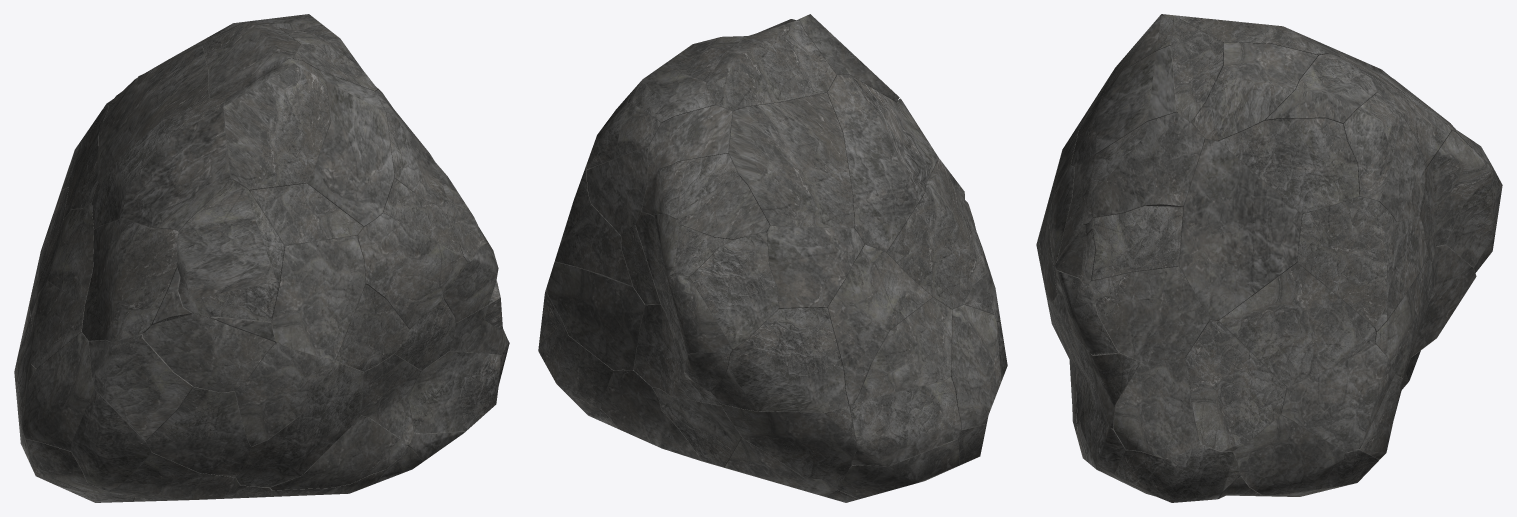
The model's file is Rock2Fractured.fbx.
3 renders of one model, left to right at view 1: azimuth 30°, elevation 25°; view 2: azimuth 150°, elevation 25°; view 3: azimuth 270°, elevation 25°, orthographic. The views are drawn at different scales.
Parts seen in each view (by area): view 1: Rock2_cell.080, Rock2_cell.032, Rock2_cell.072, Rock2_cell.086, Rock2_cell.034, Rock2_cell.008, Rock2_cell.028, Rock2_cell.038, Rock2_cell.082, Rock2_cell.009, Rock2_cell.078, Rock2_cell.035 (+32 smaller); view 2: Rock2_cell.078, Rock2_cell.080, Rock2_cell.087, Rock2_cell.086, Rock2_cell.085, Rock2_cell.071, Rock2_cell.089, Rock2_cell.049, Rock2_cell.056, Rock2_cell.045, Rock2_cell.022, Rock2_cell.024 (+25 smaller); view 3: Rock2_cell.021, Rock2_cell.095, Rock2_cell.074, Rock2_cell.096, Rock2_cell.025, Rock2_cell.070, Rock2_cell.097, Rock2_cell.093, Rock2_cell.076, Rock2_cell.091, Rock2_cell.094, Rock2_cell.073 (+28 smaller).
Boxes of the visible parts, left/top/right/bottom form: Rock2_cell.080: left=92, top=98, right=231, bottom=231; Rock2_cell.032: left=177, top=178, right=284, bottom=321; Rock2_cell.072: left=223, top=58, right=330, bottom=192; Rock2_cell.086: left=82, top=218, right=178, bottom=341; Rock2_cell.034: left=271, top=235, right=365, bottom=359; Rock2_cell.008: left=305, top=70, right=394, bottom=226; Rock2_cell.028: left=354, top=212, right=467, bottom=329; Rock2_cell.038: left=235, top=359, right=363, bottom=487; Rock2_cell.082: left=89, top=333, right=194, bottom=440; Rock2_cell.009: left=142, top=314, right=274, bottom=392; Rock2_cell.078: left=98, top=43, right=209, bottom=181; Rock2_cell.035: left=146, top=387, right=250, bottom=477; Rock2_cell.078: left=729, top=92, right=854, bottom=227; Rock2_cell.080: left=827, top=75, right=938, bottom=251; Rock2_cell.087: left=711, top=307, right=848, bottom=412; Rock2_cell.086: left=886, top=158, right=986, bottom=309; Rock2_cell.085: left=827, top=244, right=932, bottom=405; Rock2_cell.071: left=706, top=20, right=836, bottom=111; Rock2_cell.089: left=848, top=376, right=961, bottom=466; Rock2_cell.049: left=546, top=262, right=645, bottom=370; Rock2_cell.056: left=721, top=404, right=856, bottom=479; Rock2_cell.045: left=688, top=231, right=778, bottom=349; Rock2_cell.022: left=743, top=225, right=864, bottom=308; Rock2_cell.024: left=854, top=297, right=951, bottom=403; Rock2_cell.021: left=1179, top=139, right=1302, bottom=320; Rock2_cell.095: left=1218, top=263, right=1376, bottom=386; Rock2_cell.074: left=1218, top=118, right=1359, bottom=213; Rock2_cell.096: left=1297, top=196, right=1396, bottom=326; Rock2_cell.025: left=1185, top=320, right=1286, bottom=451; Rock2_cell.070: left=1083, top=112, right=1205, bottom=224; Rock2_cell.097: left=1089, top=266, right=1209, bottom=361; Rock2_cell.093: left=1280, top=343, right=1394, bottom=452; Rock2_cell.076: left=1192, top=42, right=1317, bottom=141; Rock2_cell.091: left=1113, top=358, right=1199, bottom=458; Rock2_cell.094: left=1233, top=415, right=1345, bottom=495; Rock2_cell.073: left=1085, top=204, right=1183, bottom=281.
Bounding box in the file's own units: 202 × 184 × 176.
Materials: 1 (1 with a texture image).
